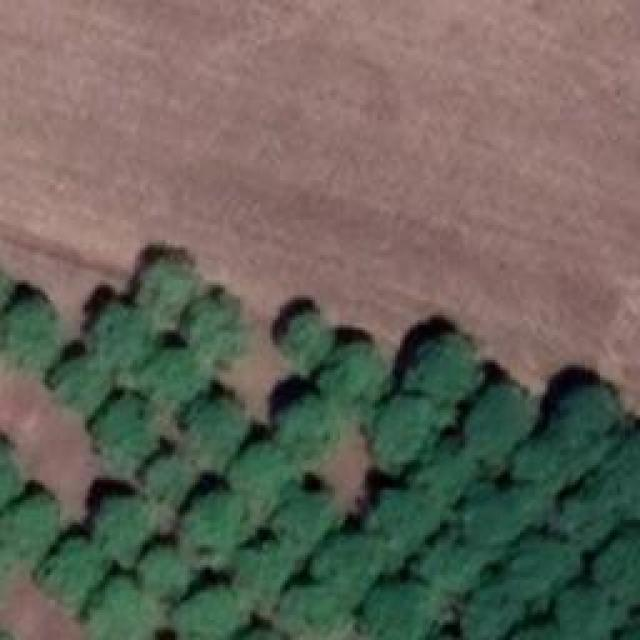Tree: (404, 333, 486, 403), (230, 438, 303, 516), (543, 377, 614, 455), (363, 575, 448, 640), (420, 525, 490, 602), (468, 383, 534, 462), (228, 540, 298, 614), (183, 395, 250, 466), (371, 400, 438, 470), (188, 488, 250, 563), (507, 530, 569, 605), (0, 293, 61, 369), (83, 575, 153, 640), (133, 253, 195, 325), (273, 585, 353, 640), (275, 494, 342, 558), (95, 490, 157, 558), (323, 538, 392, 599), (386, 483, 444, 555), (175, 580, 243, 640), (513, 433, 577, 496), (555, 578, 620, 640), (185, 288, 248, 351), (464, 488, 532, 546), (90, 303, 154, 364), (93, 401, 154, 464), (143, 343, 202, 407), (0, 490, 55, 558), (330, 338, 388, 402), (143, 535, 199, 601), (420, 443, 478, 506), (275, 388, 332, 452), (45, 545, 105, 605), (597, 524, 640, 607), (48, 352, 107, 412), (140, 445, 200, 503), (470, 588, 535, 640), (558, 488, 614, 548), (280, 308, 338, 354), (0, 438, 25, 511)
